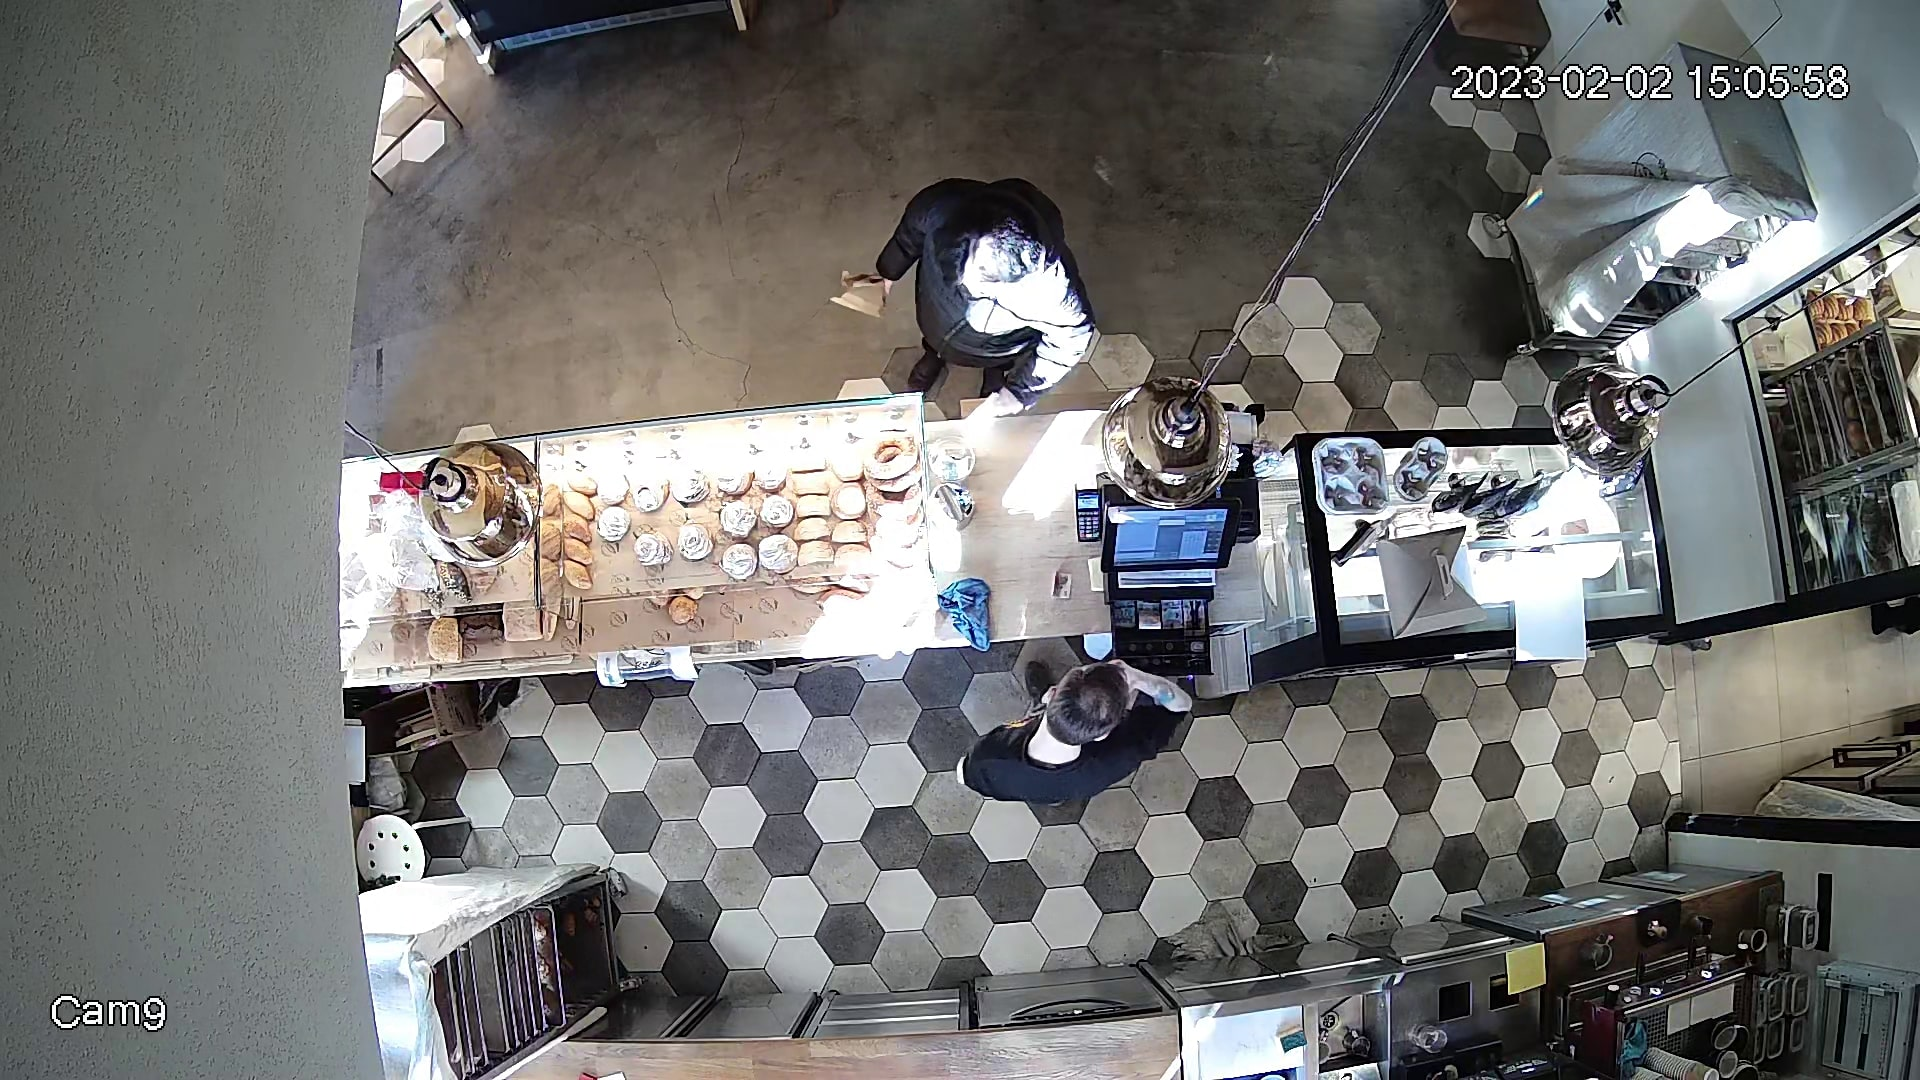barcounter: (322, 424, 1640, 645)
openedcash: (1104, 489, 1241, 677)
pack: (878, 166, 1102, 406)
person: (964, 650, 1176, 816), (823, 263, 892, 310)
